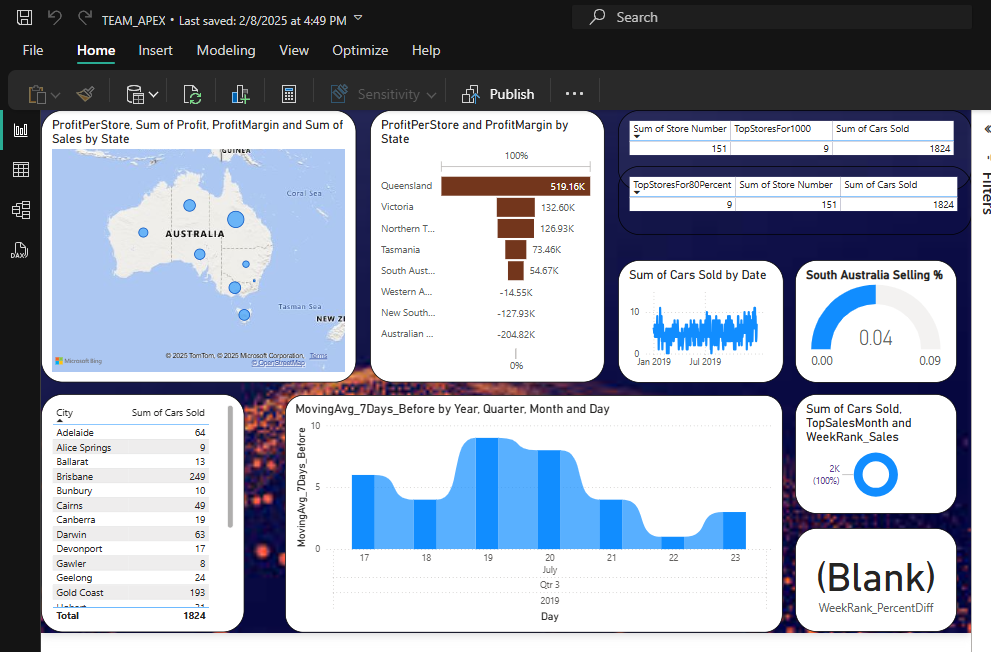

Layout of this report page (visuals, bound fields, positions):
{"tool":"powerbi","page":{"name":"Page 2","canvas":[1280,720],"ordinal":1},"visuals":[{"type":"funnel","fields":{"Category":["Budget Electric Cars.State"],"Y":["Budget Electric Cars.ProfitPerStore"]},"box":[453.1,0,323.1,375.4],"z":0},{"type":"actionButton","box":[0,0,100,40],"z":1000},{"type":"map","fields":{"Category":["Budget Electric Cars.State"],"Size":["Budget Electric Cars.ProfitPerStore"]},"box":[0,0,434.4,375.4],"z":2000},{"type":"gauge","fields":{"Y":["Budget Electric Cars.SA_Cars_Percentage"]},"box":[1037.6,206.5,222.5,168.9],"z":3000},{"type":"tableEx","fields":{"Values":["Budget Electric Cars.City","Sum(Budget Electric Cars.Cars Sold)"]},"box":[0,391.5,280.2,328.4],"z":4000},{"type":"tableEx","fields":{"Values":["Sum(Budget Electric Cars.Store Number)","Budget Electric Cars.TopStoresFor1000","Sum(Budget Electric Cars.Cars Sold)"]},"box":[793.6,0,486.6,111.3],"z":5000},{"type":"tableEx","fields":{"Values":["Budget Electric Cars.TopStoresFor80Percent","Sum(Budget Electric Cars.Store Number)","Sum(Budget Electric Cars.Cars Sold)"]},"box":[793.6,77.8,486.6,95.2],"z":6000},{"type":"ribbonChart","fields":{"Category":["Sales Timeline.Date.Variation.Date Hierarchy.Year","Sales Timeline.Date.Variation.Date Hierarchy.Quarter","Sales Timeline.Date.Variation.Date Hierarchy.Month","Sales Timeline.Date.Variation.Date Hierarchy.Day"],"Y":["Sales Timeline.MovingAvg_7Days_Before"]},"box":[336.5,392.8,685,327.1],"z":6001},{"type":"donutChart","fields":{"Y":["Sum(Sales Timeline.Cars Sold)"]},"box":[1037.6,391.5,222.5,164.9],"z":6002},{"type":"card","fields":{"Values":["Sales Timeline.WeekRank_PercentDiff"]},"box":[1037.6,575.1,222.5,143.4],"z":6005},{"type":"lineChart","fields":{"Category":["Sales Timeline.Date"],"Y":["Sum(Sales Timeline.Cars Sold)"]},"box":[793.6,206.5,227.9,168.9],"z":6006}]}

Visuals, with their boxes in screenshot pixels (x1, y1, x2, y2):
funnel - Budget Electric Cars.State x Budget Electric Cars.ProfitPerStore: 372 103 610 380
actionButton: 39 103 112 133
map - Budget Electric Cars.State x Budget Electric Cars.ProfitPerStore: 39 103 359 380
gauge - Budget Electric Cars.SA_Cars_Percentage: 803 255 967 380
tableEx - Budget Electric Cars.City x Sum(Budget Electric Cars.Cars Sold): 39 392 245 633
tableEx - Sum(Budget Electric Cars.Store Number) x Budget Electric Cars.TopStoresFor1000: 623 103 982 185
tableEx - Budget Electric Cars.TopStoresFor80Percent x Sum(Budget Electric Cars.Store Number): 623 161 982 231
ribbonChart - Sales Timeline.Date.Variation.Date Hierarchy.Year x Sales Timeline.Date.Variation.Date Hierarchy.Quarter: 287 393 791 633
donutChart - Sum(Sales Timeline.Cars Sold): 803 392 967 513
card - Sales Timeline.WeekRank_PercentDiff: 803 527 967 632
lineChart - Sales Timeline.Date x Sum(Sales Timeline.Cars Sold): 623 255 791 380
